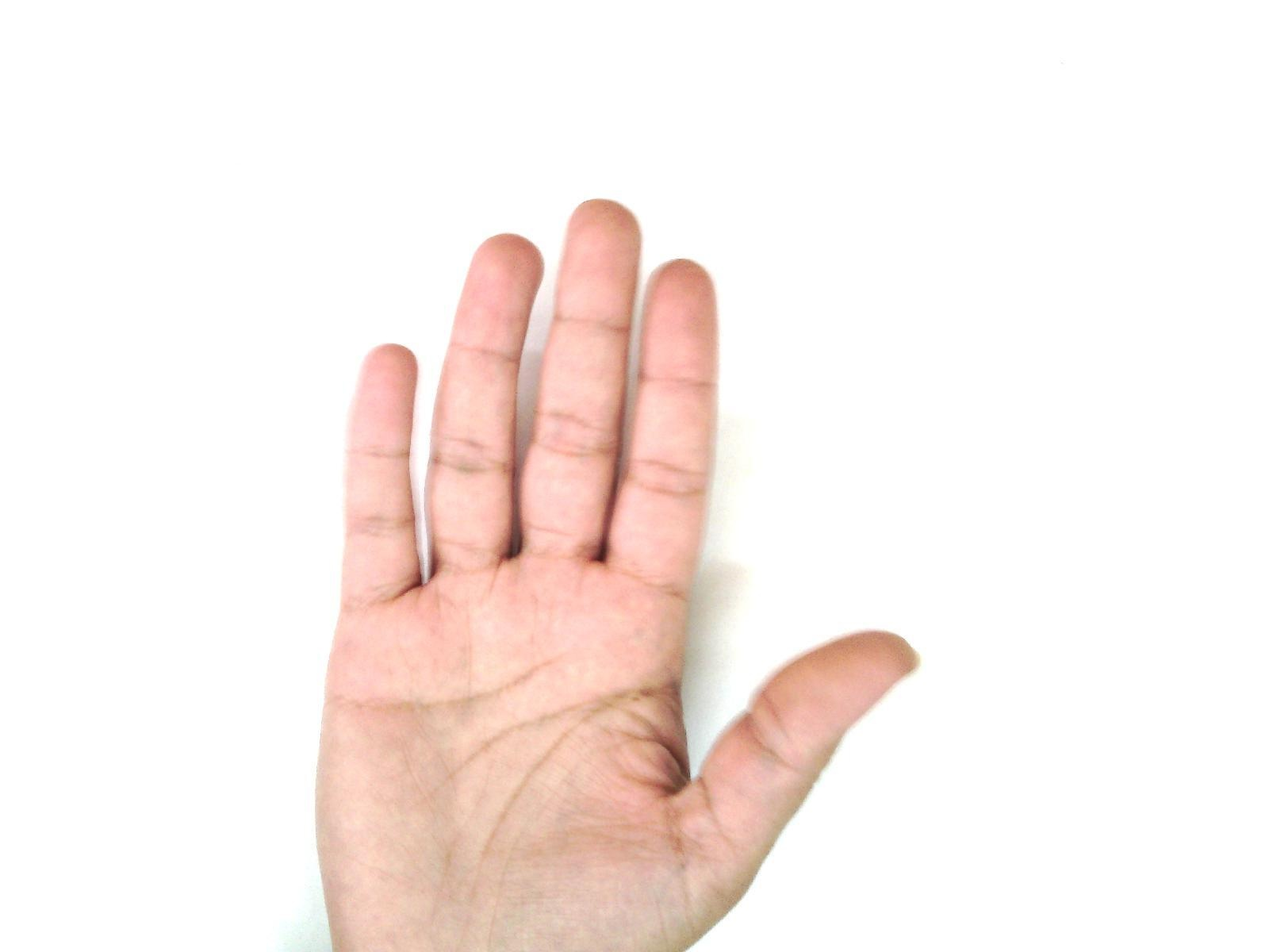open_palm: (310, 198, 922, 951)
